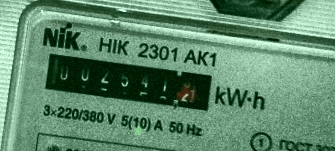0: (55, 59, 71, 82), (76, 60, 91, 83)
1: (157, 70, 171, 94)
2: (96, 62, 113, 86)
4: (137, 67, 151, 90)
5: (116, 65, 132, 90)
6: (178, 89, 190, 103)
screen: (30, 40, 225, 121)
